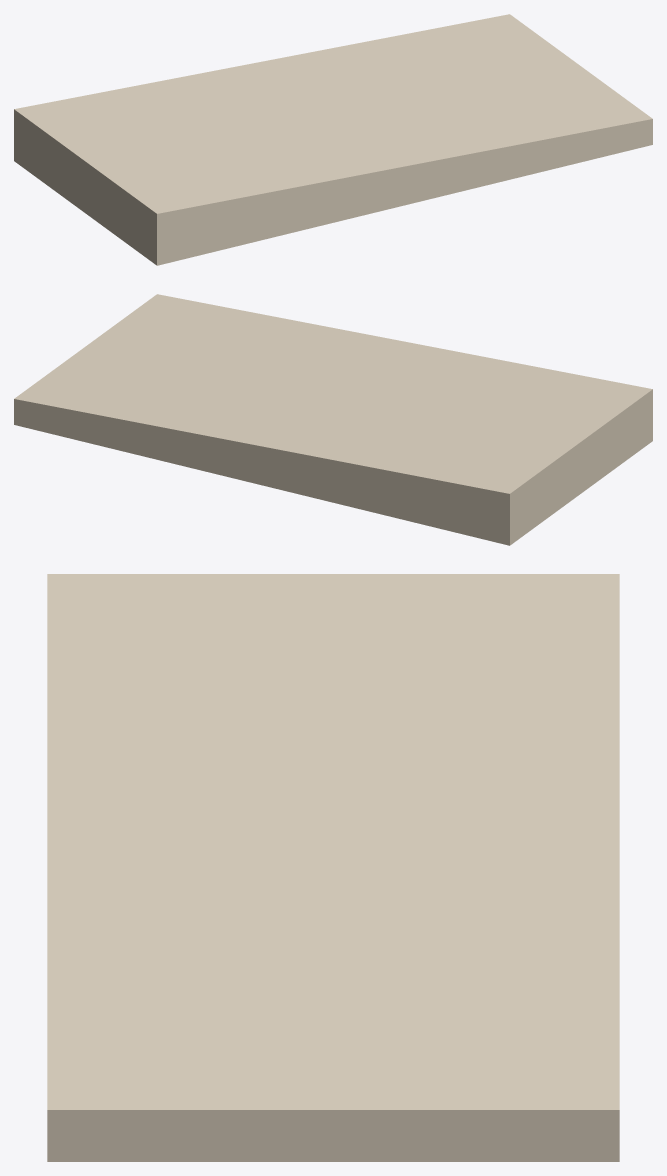
File: Dirt_Fading.glb
3 renders of one model, top to bottom at view 1: azimuth 30°, elevation 25°; view 2: azimuth 150°, elevation 25°; view 3: azimuth 270°, elevation 25°, orthographic. The views are drawn at different scales.
Parts seen in each view (by area): view 1: object1; view 2: object1; view 3: object1.
Part boxes in pixels (<box>): object1: <box>14,14,652,265</box>; object1: <box>14,294,652,545</box>; object1: <box>47,574,619,1161</box>.
Bounding box in the file's own units: 2 × 0.2 × 1.
